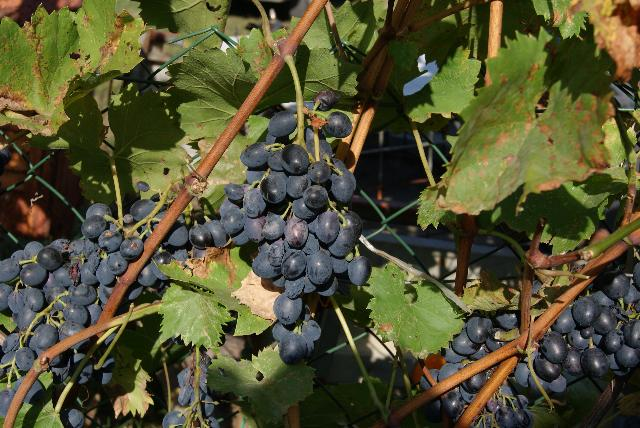grapes: (220, 111, 371, 364), (0, 202, 150, 390), (512, 265, 640, 399), (432, 310, 521, 381), (125, 225, 188, 304), (442, 366, 496, 420), (474, 385, 535, 428), (122, 200, 155, 230)
